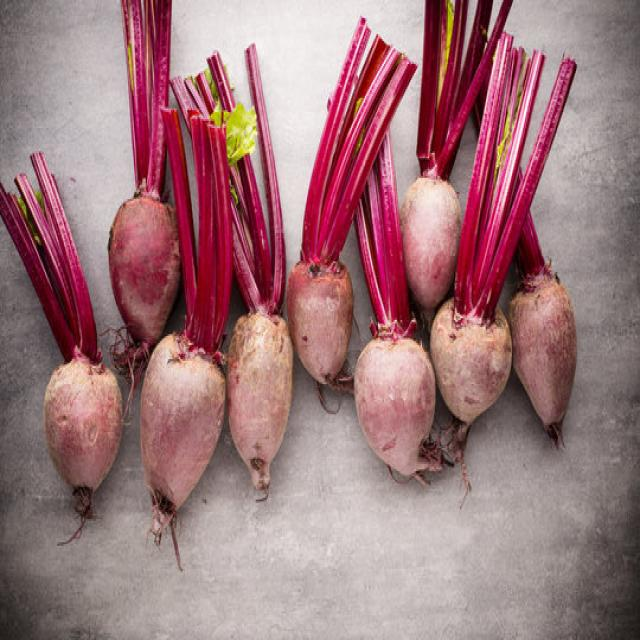Beetroot: (428, 30, 576, 507), (286, 15, 418, 412), (336, 34, 446, 487), (0, 149, 124, 543), (138, 103, 234, 569), (205, 41, 294, 501), (106, 0, 182, 420), (502, 50, 578, 450)
Garlic: (399, 0, 514, 318)
Radish: (351, 35, 416, 332)
